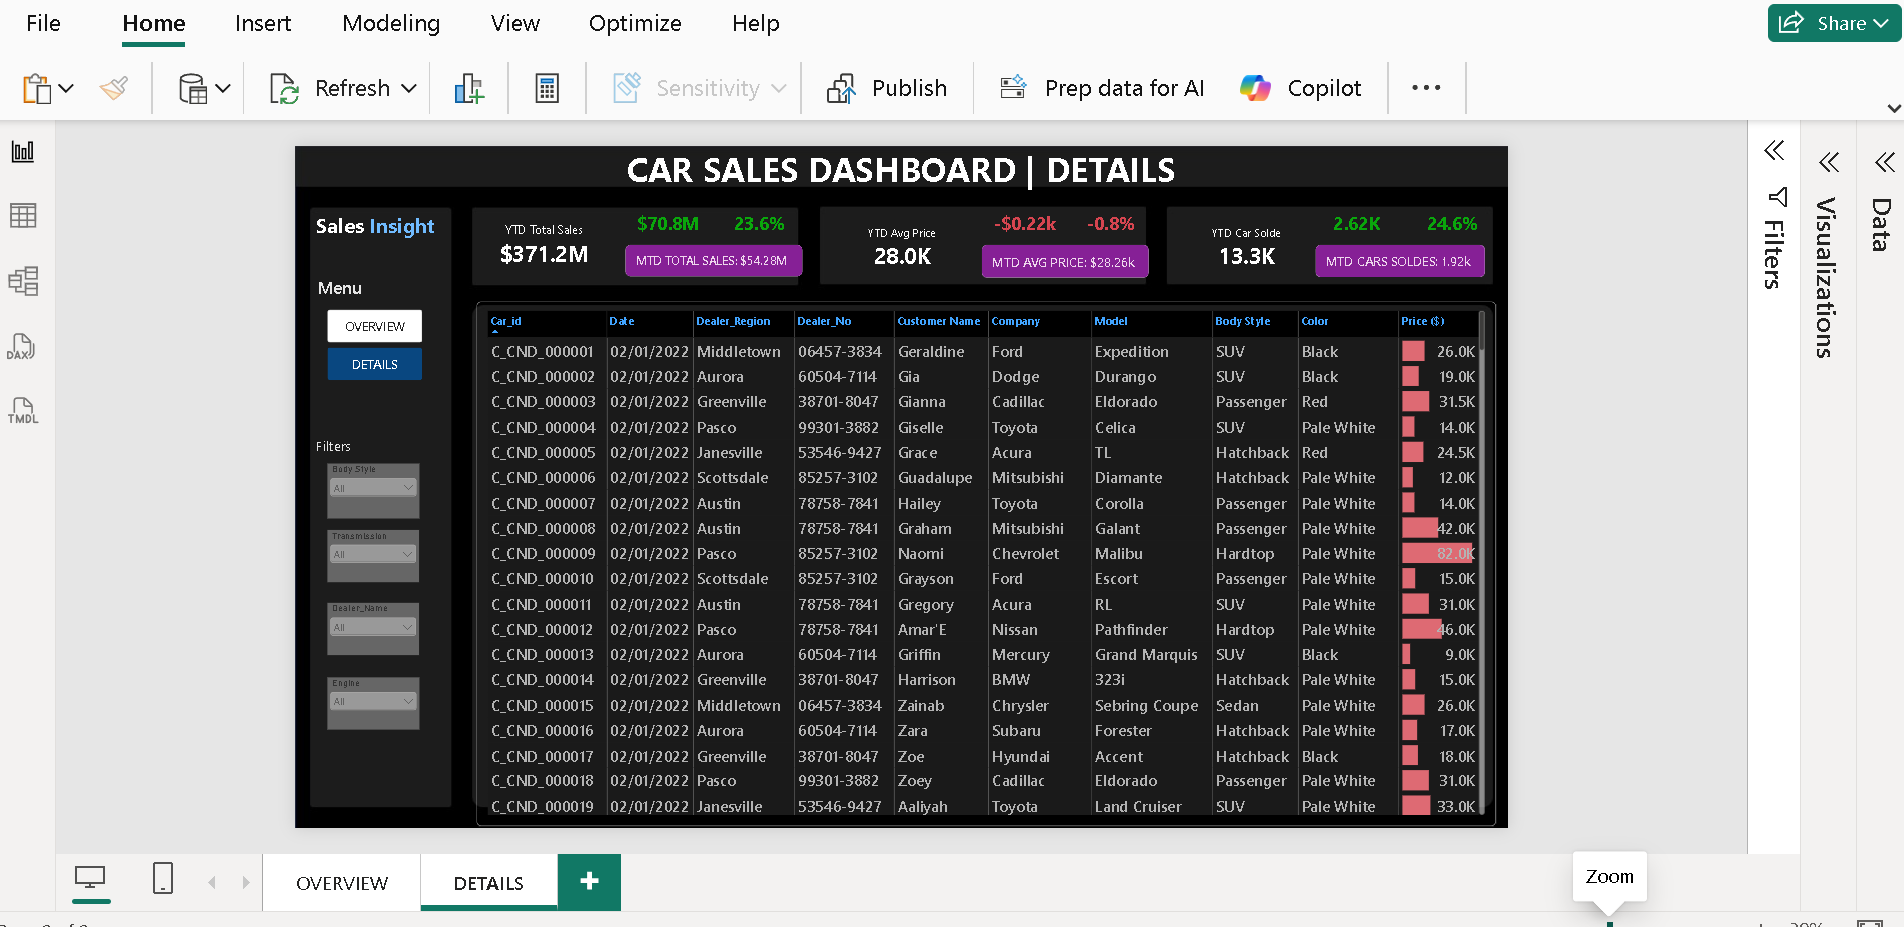

Layout of this report page (visuals, bound fields, positions):
{"tool":"powerbi","page":{"name":"DETAILS","canvas":[1920,1080],"ordinal":1},"visuals":[{"type":"textbox","box":[34.6,0,1865.4,73.1],"z":12000},{"type":"textbox","box":[0,0,1919.2,103.8],"z":13000},{"type":"slicer","fields":{"Values":["car_data.Body Style"]},"box":[50.8,503.7,145.7,87.1],"z":14000},{"type":"slicer","fields":{"Values":["car_data.Transmission"]},"box":[50.4,608,145,82.5],"z":15000},{"type":"slicer","fields":{"Values":["car_data.Dealer_Name"]},"box":[50.9,723,145,83],"z":16000},{"type":"slicer","fields":{"Values":["car_data.Engine"]},"box":[50.8,840.8,145.7,82.9],"z":17000},{"type":"tableEx","fields":{"Values":["car_data.Car_id","car_data.Date","car_data.Dealer_Region","car_data.Dealer_No ","car_data.Customer Name","car_data.Company","car_data.Model","car_data.Body Style","car_data.Color","car_data.Price ($)"]},"box":[286.7,246.7,1613.3,830],"z":18000},{"type":"pageNavigator","box":[51.4,258.9,150,113.3],"z":19000},{"type":"textbox","box":[34.8,203.9,113.3,55],"z":20000},{"type":"textbox","box":[33.7,458,174.3,45.7],"z":21000},{"type":"textbox","box":[34.1,102.4,217.1,80.5],"z":21001},{"type":"cardVisual","fields":{"Data":["car_data.YTD total sales"]},"box":[285.7,102.9,220,108.6],"z":21002},{"type":"cardVisual","fields":{"Data":["car_data.sales difference"]},"box":[522,102,135.7,37.1],"z":21003},{"type":"cardVisual","fields":{"Data":["car_data.YOY growth"]},"box":[666,102,135.5,37.3],"z":21004},{"type":"cardVisual","fields":{"Data":["car_data.MTD"]},"box":[523.3,156.7,280,50],"z":21005},{"type":"cardVisual","fields":{"Data":["car_data.AVG TOTAL SALES"]},"box":[850,106.7,220,108.6],"z":21006},{"type":"cardVisual","fields":{"Data":["car_data.avg YTY sales diff"]},"box":[1086,102,136,38],"z":21007},{"type":"cardVisual","fields":{"Data":["car_data.avg YTY grouth"]},"box":[1222,102,136,38],"z":21008},{"type":"cardVisual","fields":{"Data":["car_data.MTM AVG prices"]},"box":[1086.7,156.7,264,52],"z":21009},{"type":"cardVisual","fields":{"Data":["car_data.YTD cars solde"]},"box":[1396.7,106.7,218,108],"z":21010},{"type":"cardVisual","fields":{"Data":["car_data.cars solde diff YTY"]},"box":[1614,102,135.7,37.1],"z":21011},{"type":"cardVisual","fields":{"Data":["car_data.yty cars solde grouth"]},"box":[1764,102,135.5,37.3],"z":21012},{"type":"cardVisual","fields":{"Data":["car_data.mtd car solde"]},"box":[1614.6,156.1,268.3,51.2],"z":21013}]}

Visuals, with their boxes on the page's 1920x1080 design canvas (x1, y1, x2, y2). These are canvas units, not pixel positions in the 1904x927 screenshot, which may show the page scaled, cropped or inside an application window:
textbox: region(35, 0, 1900, 73)
textbox: region(0, 0, 1919, 104)
slicer - car_data.Body Style: region(51, 504, 196, 591)
slicer - car_data.Transmission: region(50, 608, 195, 690)
slicer - car_data.Dealer_Name: region(51, 723, 196, 806)
slicer - car_data.Engine: region(51, 841, 196, 924)
tableEx - car_data.Car_id x car_data.Date: region(287, 247, 1900, 1077)
pageNavigator: region(51, 259, 201, 372)
textbox: region(35, 204, 148, 259)
textbox: region(34, 458, 208, 504)
textbox: region(34, 102, 251, 183)
cardVisual - car_data.YTD total sales: region(286, 103, 506, 212)
cardVisual - car_data.sales difference: region(522, 102, 658, 139)
cardVisual - car_data.YOY growth: region(666, 102, 802, 139)
cardVisual - car_data.MTD: region(523, 157, 803, 207)
cardVisual - car_data.AVG TOTAL SALES: region(850, 107, 1070, 215)
cardVisual - car_data.avg YTY sales diff: region(1086, 102, 1222, 140)
cardVisual - car_data.avg YTY grouth: region(1222, 102, 1358, 140)
cardVisual - car_data.MTM AVG prices: region(1087, 157, 1351, 209)
cardVisual - car_data.YTD cars solde: region(1397, 107, 1615, 215)
cardVisual - car_data.cars solde diff YTY: region(1614, 102, 1750, 139)
cardVisual - car_data.yty cars solde grouth: region(1764, 102, 1900, 139)
cardVisual - car_data.mtd car solde: region(1615, 156, 1883, 207)
